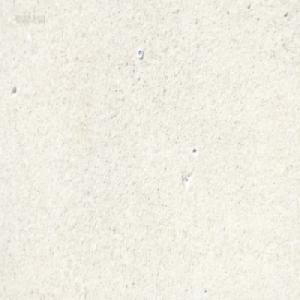Washer: (137, 48, 144, 59)
